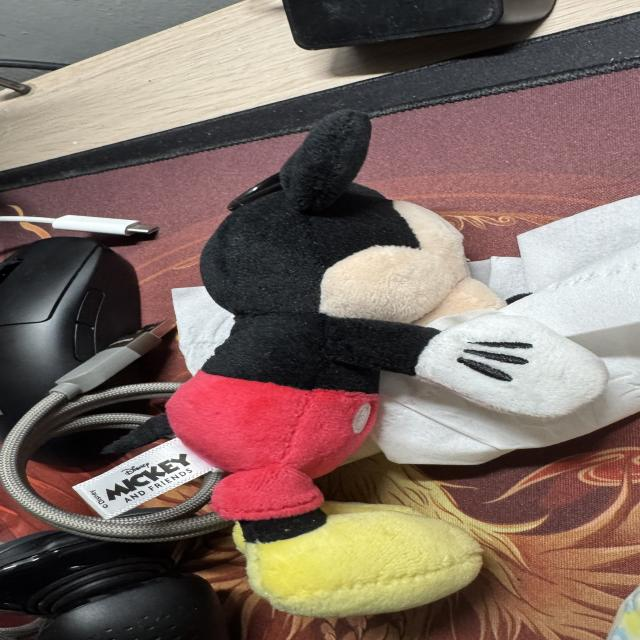mickey: (167, 111, 606, 616)
